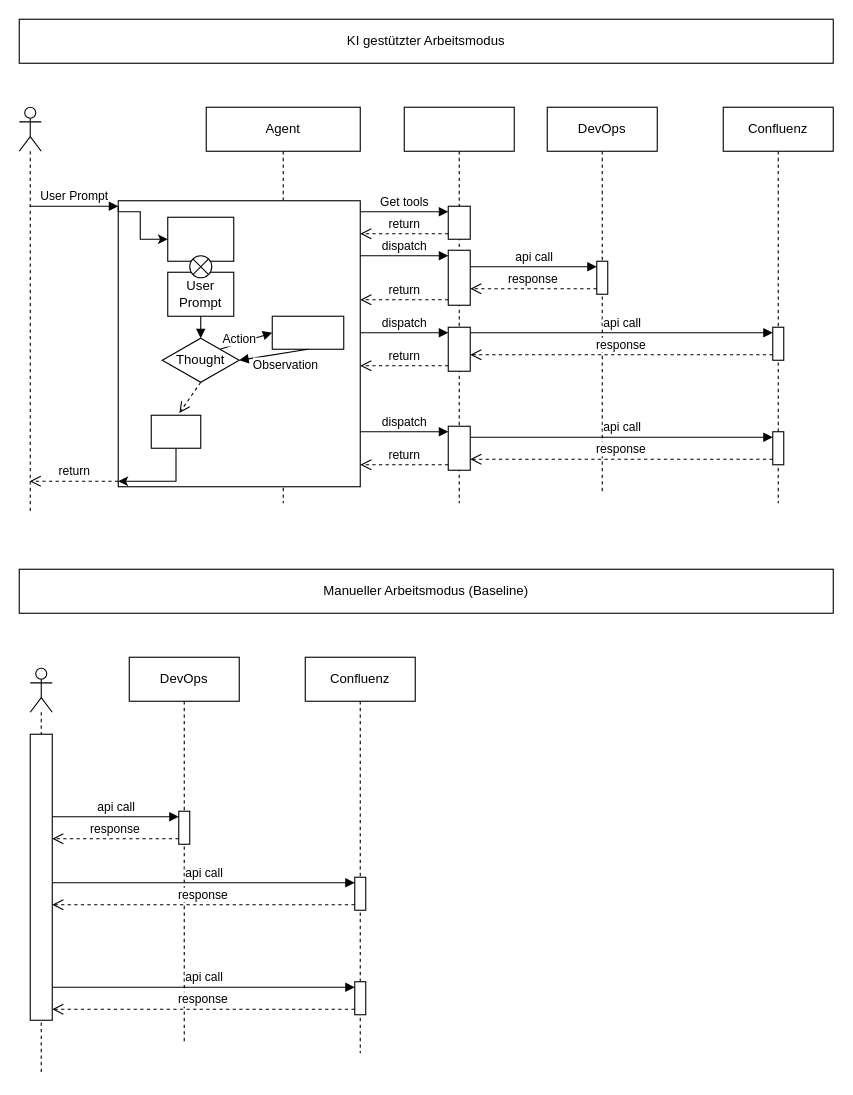
Some shapes in this 853 by 1095 pixel diagram are drawn without their labels. Each missing label, with the box of its shape:
Answer: (150, 414, 201, 448)
MCP Server: (403, 106, 514, 503)
MCP Tool call: (271, 315, 344, 349)
System prompt: (167, 216, 234, 261)
